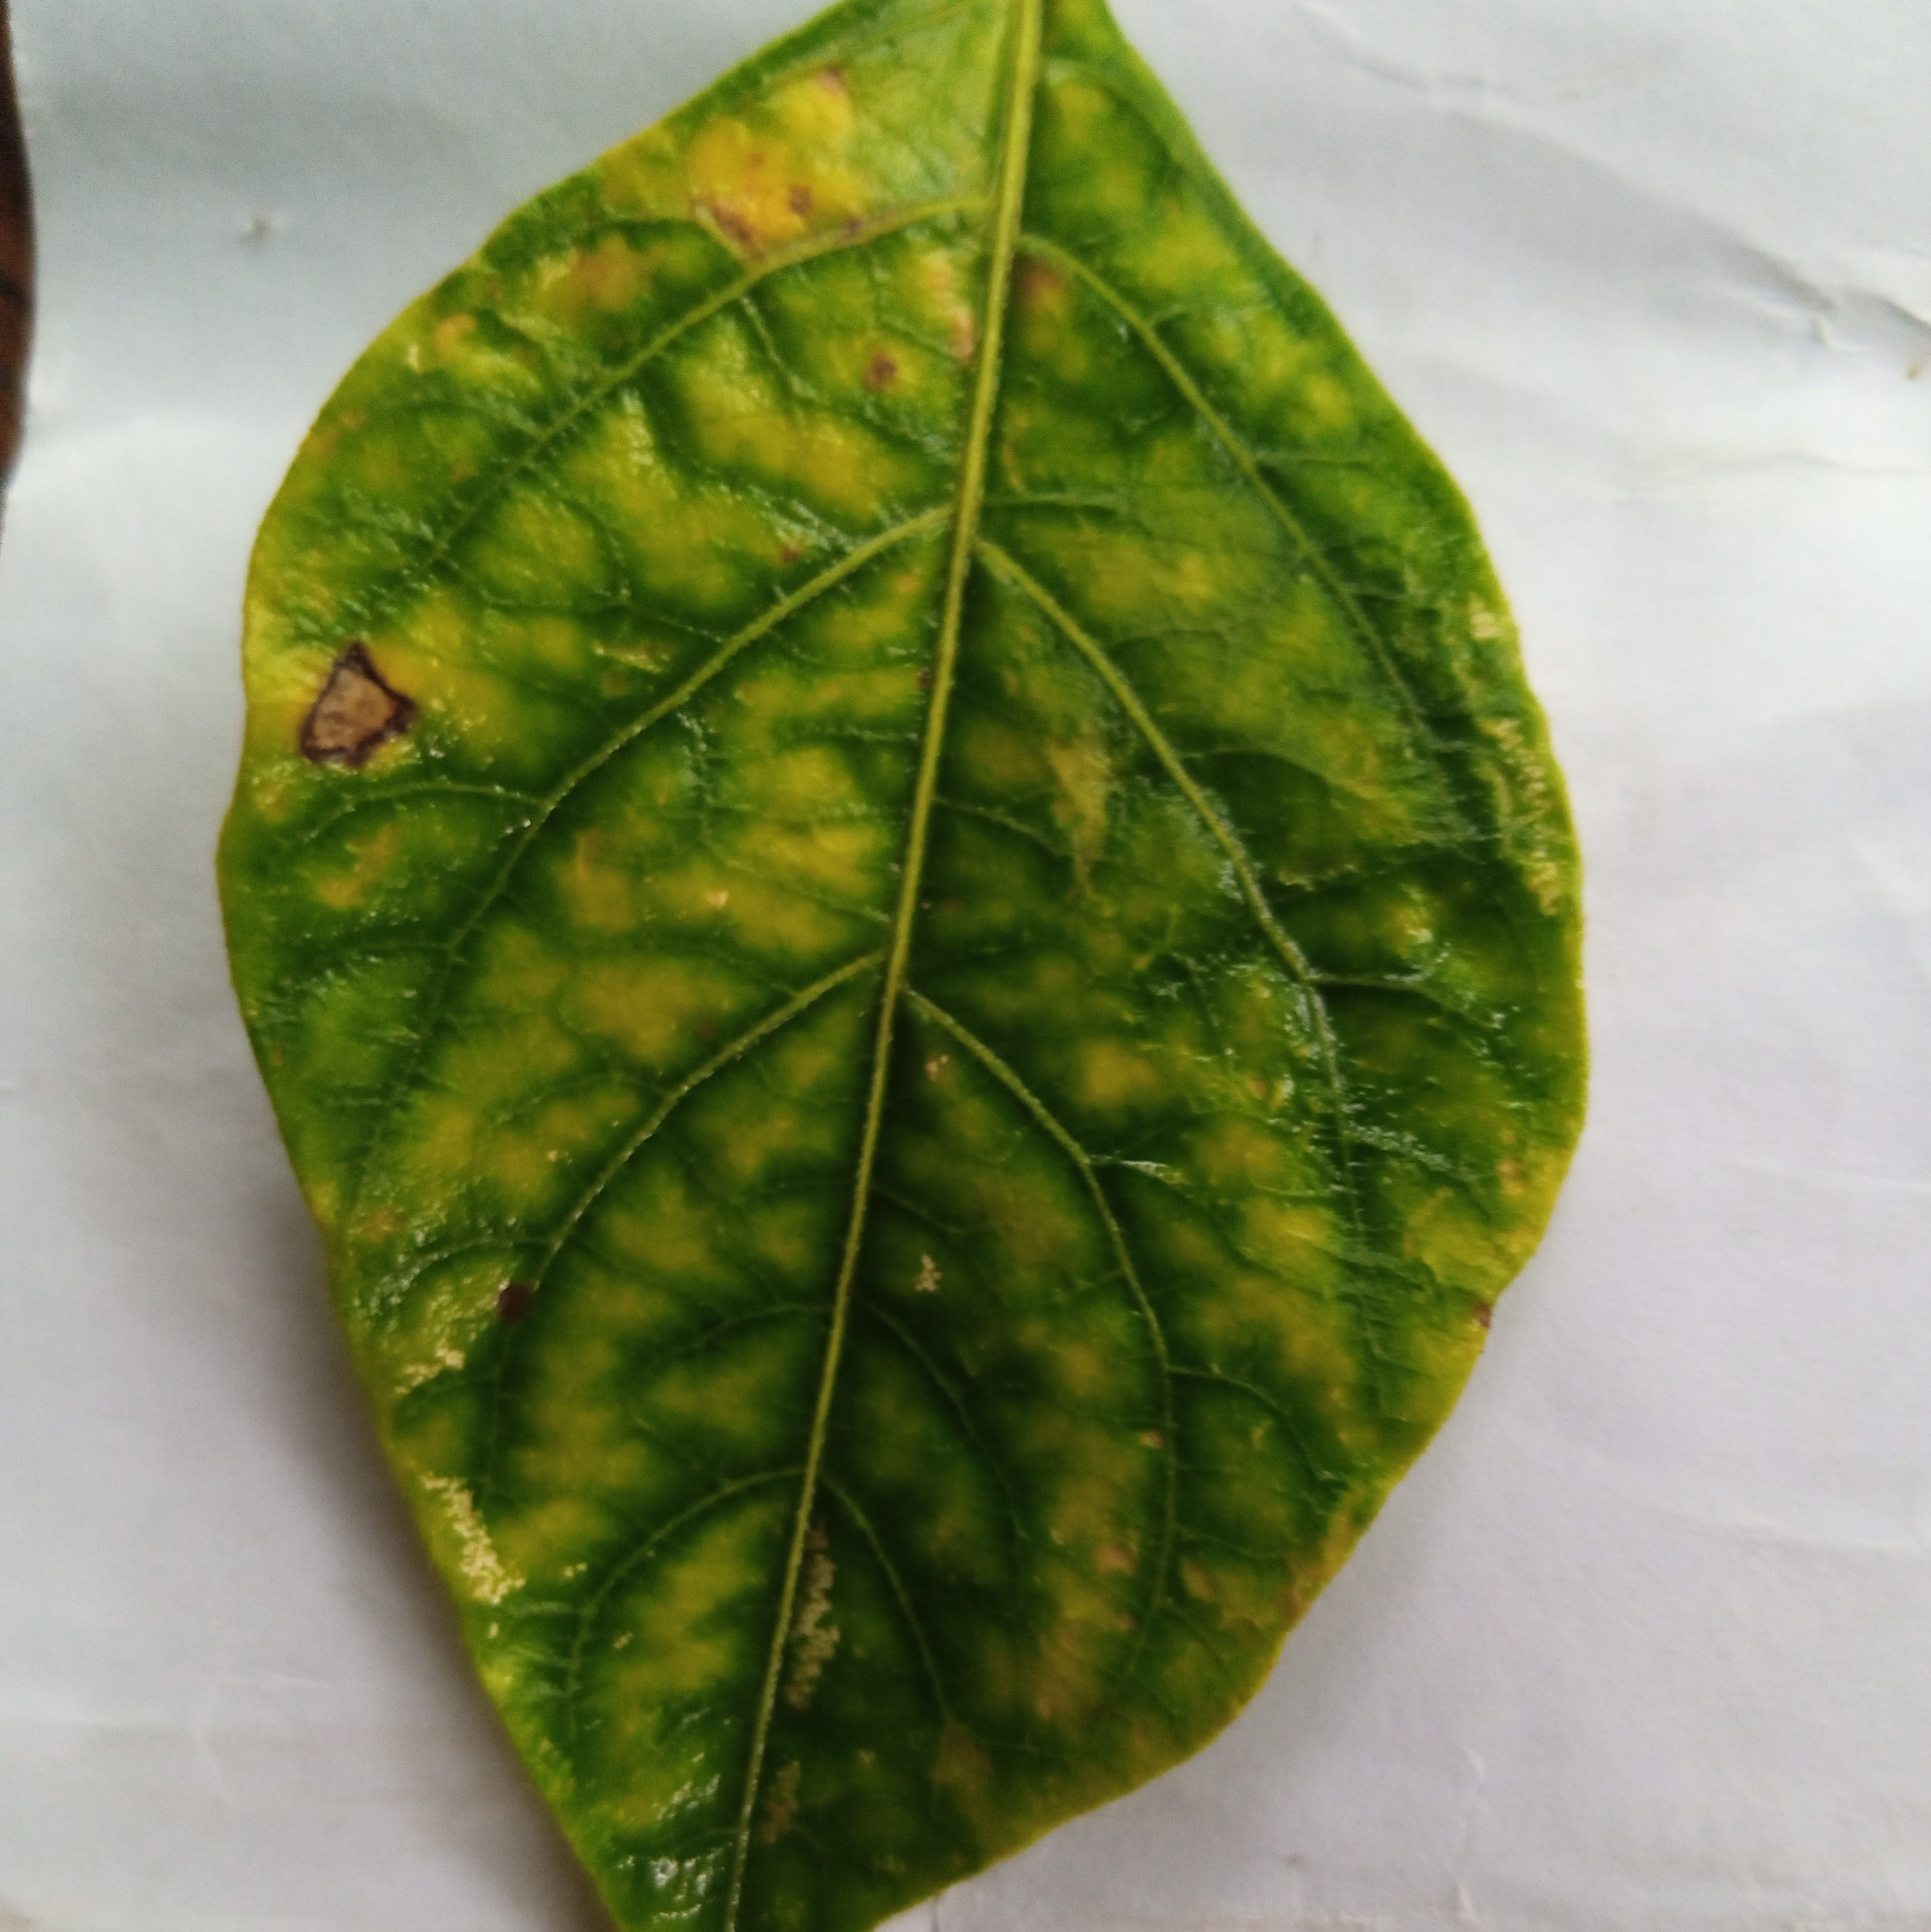Leaf: (175, 4, 1637, 1932)
